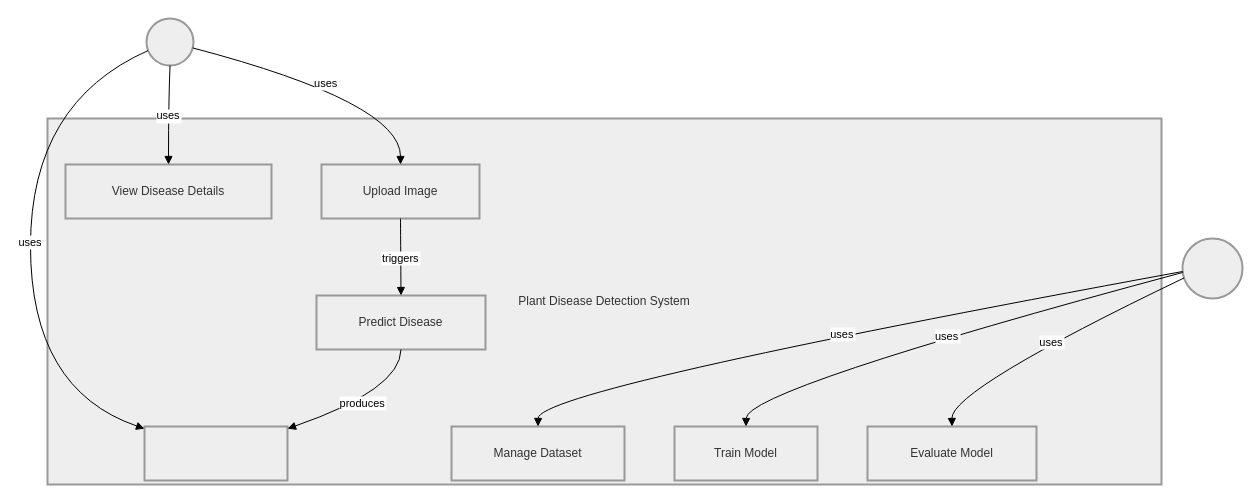
Image size: 1260x502. Some labels were removed from this diagram. Each missing label, with the centre of its shape:
Admin: the point at 1212,268
User: the point at 169,41
View Result: the point at 215,453
